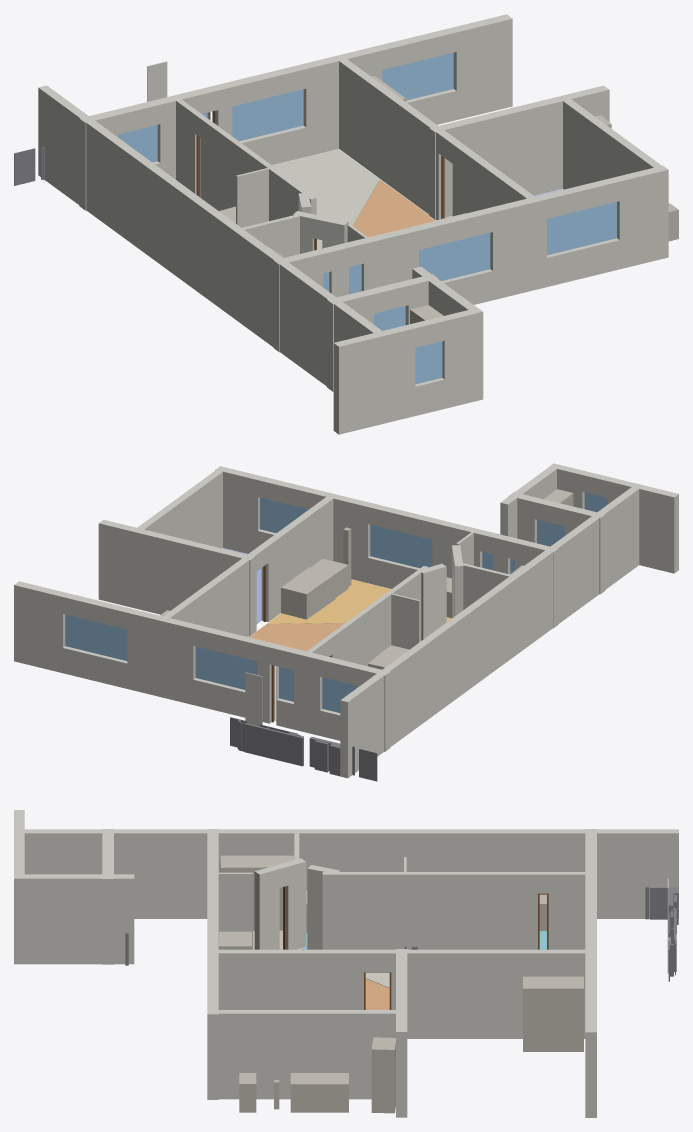
The picture shows the model from 3 angles, top to bottom: view 1: azimuth 30°, elevation 25°; view 2: azimuth 150°, elevation 25°; view 3: azimuth 270°, elevation 25°; orthographic projection. The views are drawn at different scales.
Visible parts, largest first — view 1: walls, floor_1_Undefined, window_5, window_2, floor_2_Living_Room, window_1, window_4, window_3, window_0, railings; view 2: walls, railings, furniture_7_appliance, floor_3_Kitchen, window_4, window_1, window_5, floor_2_Living_Room, window_2, window_0, furniture_16_sink, window_12 (+2 smaller); view 3: walls, furniture_0_closet, furniture_6_appliance, furniture_1_closet, railings, furniture_2_closet, furniture_10_appliance, floor_2_Living_Room, furniture_11_appliance.
Boxes of the visible parts, box(x1,y1,x2,y2) form: walls: box(38, 14, 668, 434); floor_1_Undefined: box(272, 149, 379, 249); window_5: box(232, 89, 303, 141); window_2: box(547, 202, 616, 255); floor_2_Living_Room: box(353, 179, 435, 237); window_1: box(419, 233, 490, 280); window_4: box(382, 52, 453, 100); window_3: box(415, 341, 442, 384); window_0: box(118, 125, 157, 162); railings: box(14, 146, 44, 185); walls: box(14, 463, 678, 778); railings: box(230, 717, 377, 781); furniture_7_appliance: box(281, 567, 335, 619); floor_3_Kitchen: box(267, 579, 451, 624); window_4: box(65, 614, 127, 660); window_1: box(370, 524, 432, 568); window_5: box(195, 646, 257, 689); floor_2_Living_Room: box(249, 623, 344, 651); window_2: box(260, 497, 308, 533); window_0: box(322, 677, 356, 712); furniture_16_sink: box(311, 558, 348, 597); window_12: box(537, 520, 564, 546); walls: box(14, 810, 678, 1117); furniture_0_closet: box(523, 976, 583, 1051); furniture_6_appliance: box(290, 1073, 348, 1112); furniture_1_closet: box(371, 1037, 395, 1113); railings: box(125, 887, 678, 981); furniture_2_closet: box(220, 855, 293, 930); furniture_10_appliance: box(239, 1073, 256, 1112); floor_2_Living_Room: box(365, 978, 389, 1009); furniture_11_appliance: box(219, 931, 251, 949).
Bounding box in the file's own units: 15.02 × 2.72 × 19.
